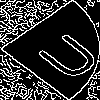U: (25, 24, 100, 83)
